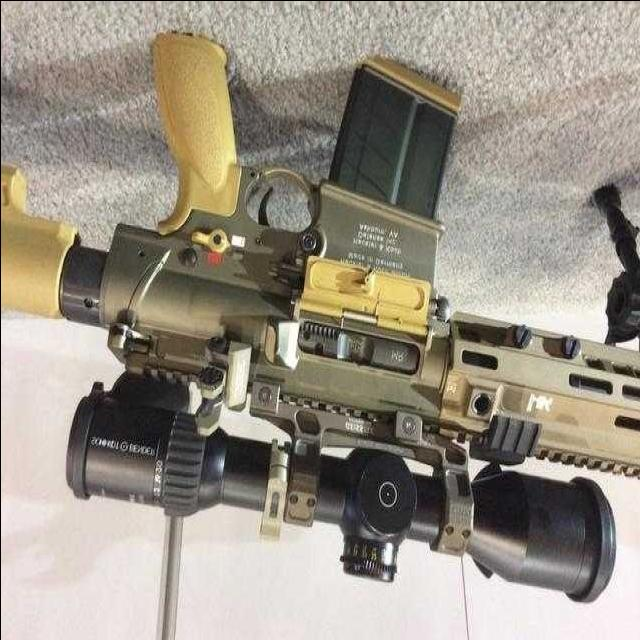heavyweapon: (1, 11, 632, 619)
